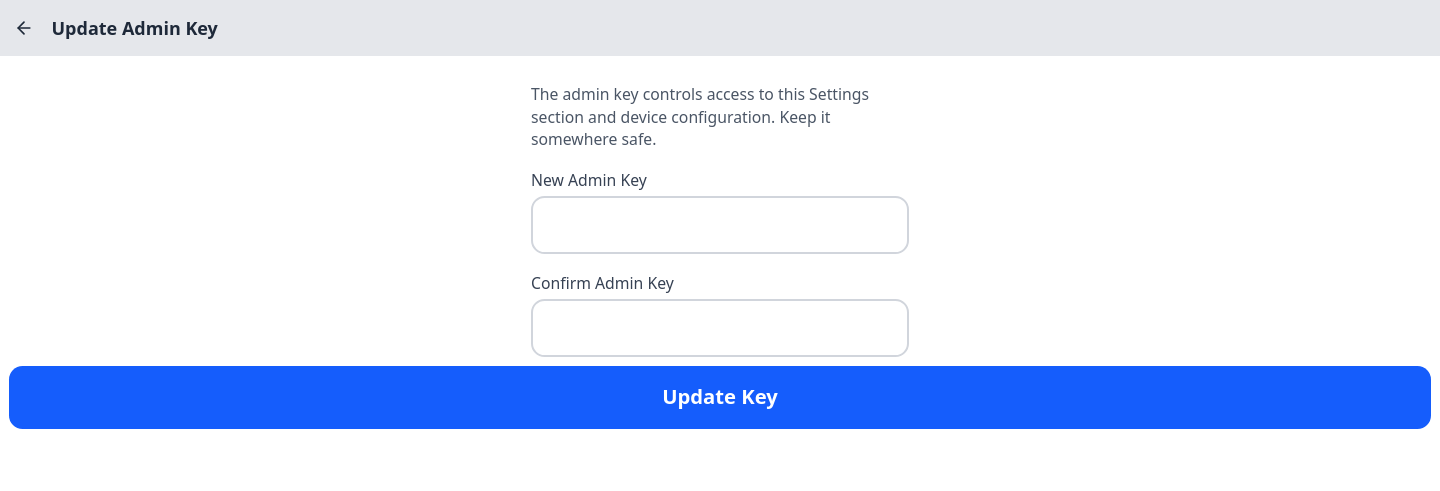
Scenario: UpdateAdminKeyPage › shows a network error if the request throws
The width and height of the screenshot is (1440, 491).
Type "newsecret" into the password field labelled "New Admin Key". click: (720, 224)
box: [531,196,909,254]
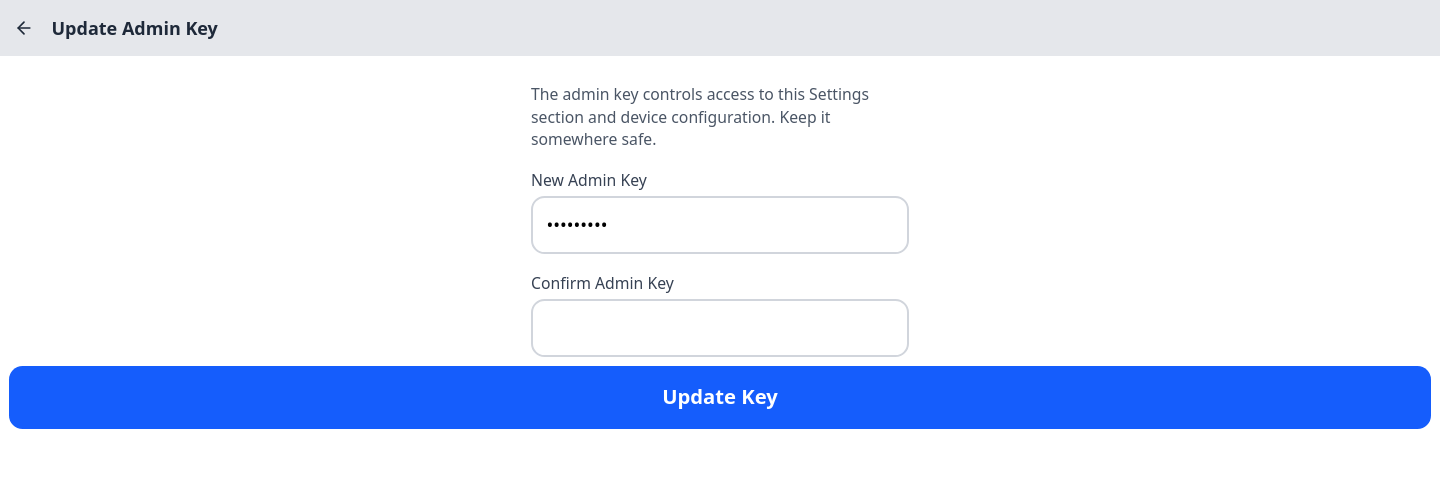
Type "newsecret" into the password field labelled "Confirm Admin Key". click: (720, 328)
box: [531,298,909,356]
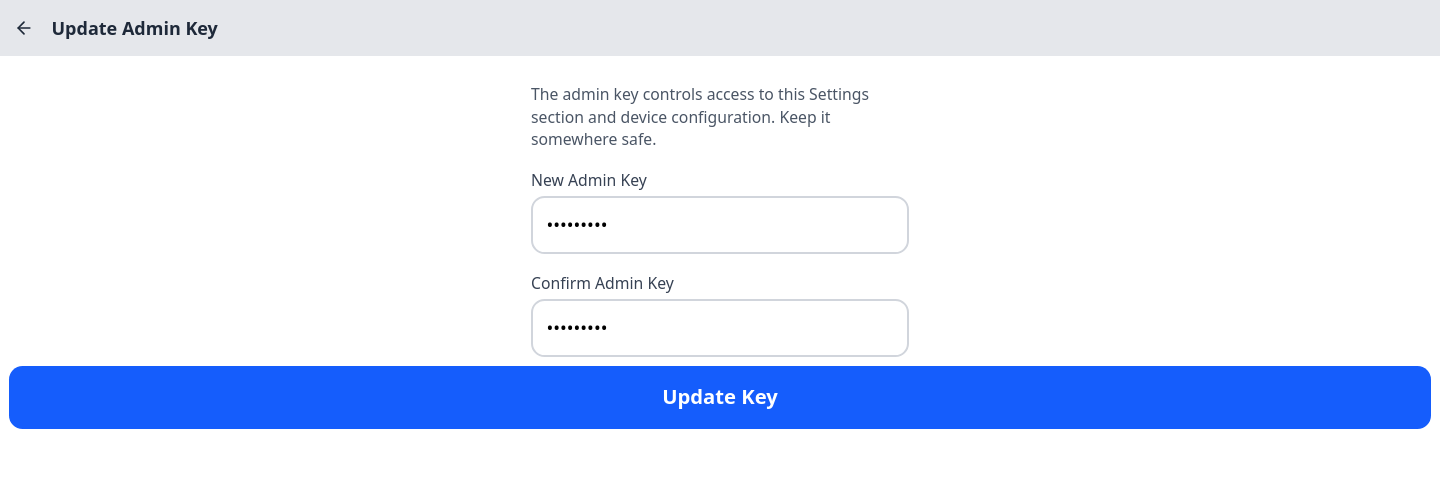
Click the button "Update Key". click: click(720, 397)
box: [9,366,1431,428]
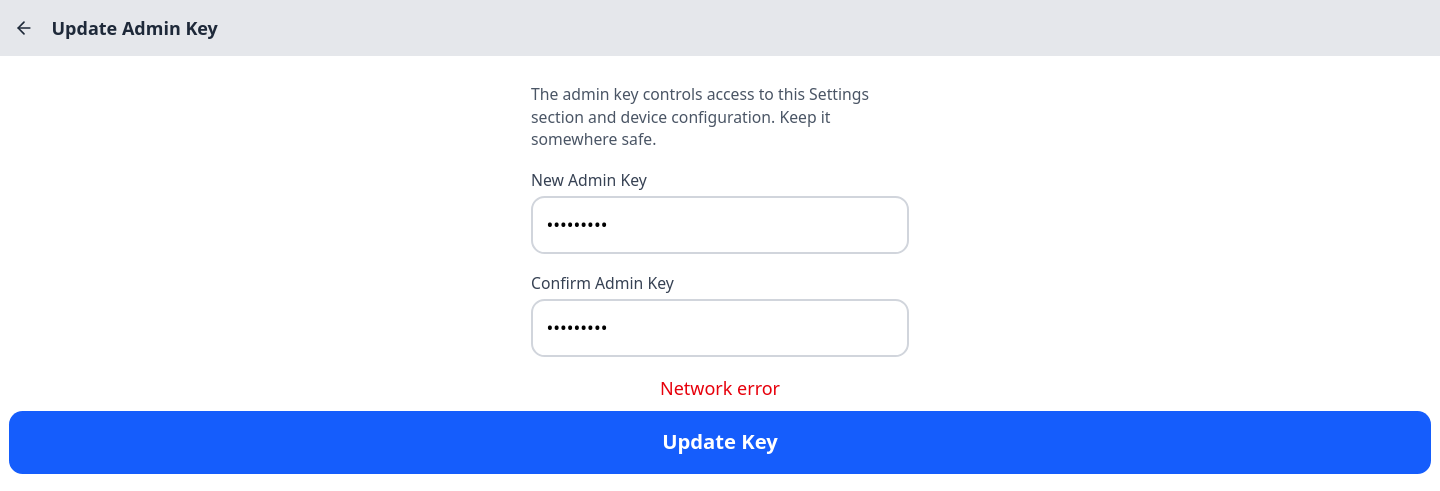
Check: the text "Network error" is shown, box [660,376,780,400]
